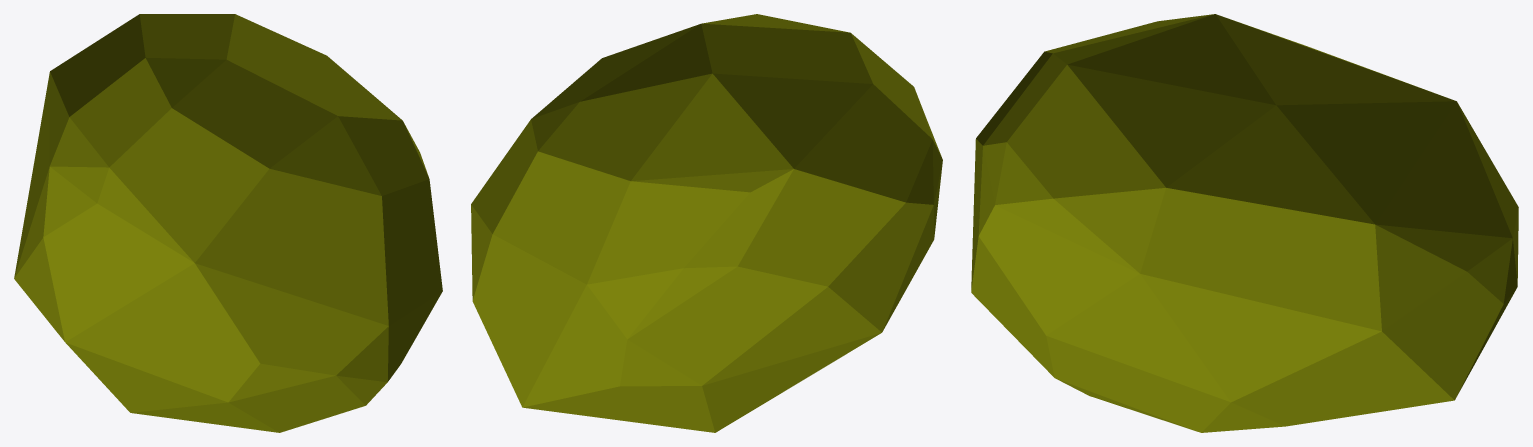
File: bush-6.glb
3 views of the same model, side by side, from view 1: azimuth 30°, elevation 25°; view 2: azimuth 150°, elevation 25°; view 3: azimuth 270°, elevation 25° (orthographic). The views are drawn at different scales.
Visible parts, largest first — view 1: Bush 6; view 2: Bush 6; view 3: Bush 6.
Boxes of the visible parts, x1=… form: Bush 6: x1=14, y1=14, x2=442, y2=432; Bush 6: x1=471, y1=14, x2=942, y2=432; Bush 6: x1=971, y1=14, x2=1518, y2=432.
Bounding box in the file's own units: 4.15 × 3.97 × 5.32.
